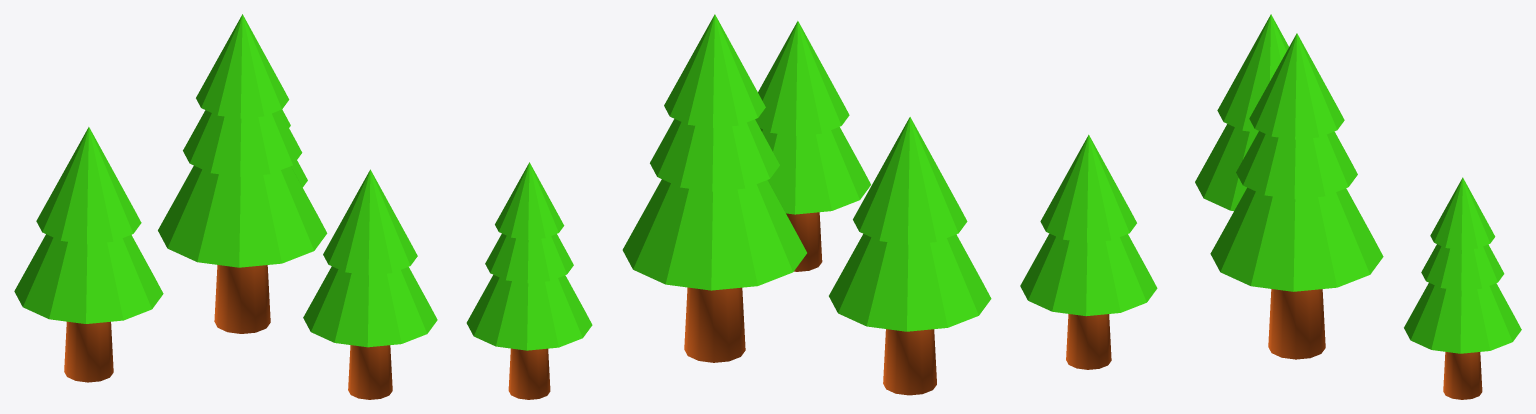
File: Trees02.fbx
The picture shows the model from 3 angles, left to right: view 1: azimuth 30°, elevation 25°; view 2: azimuth 150°, elevation 25°; view 3: azimuth 270°, elevation 25°; orthographic projection. The views are drawn at different scales.
Visible parts, largest first — view 1: TreeL, TreeS.001, TreeS; view 2: TreeL, TreeS.001, TreeL.001, TreeS; view 3: TreeL, TreeS, TreeL.001, TreeS.001.
Part boxes in pixels (x1=…): TreeL: x1=158, y1=14, x2=327, y2=333; TreeS.001: x1=14, y1=127, x2=163, y2=382; TreeS: x1=303, y1=169, x2=437, y2=399; TreeL: x1=622, y1=14, x2=806, y2=362; TreeS.001: x1=829, y1=117, x2=991, y2=395; TreeL.001: x1=466, y1=162, x2=592, y2=399; TreeS: x1=755, y1=21, x2=870, y2=271; TreeL: x1=1210, y1=33, x2=1383, y2=359; TreeS: x1=1020, y1=134, x2=1157, y2=369; TreeL.001: x1=1404, y1=177, x2=1521, y2=399; TreeS.001: x1=1195, y1=14, x2=1288, y2=210.
Size of the model in its own units: 1635 by 1302 by 1882.
